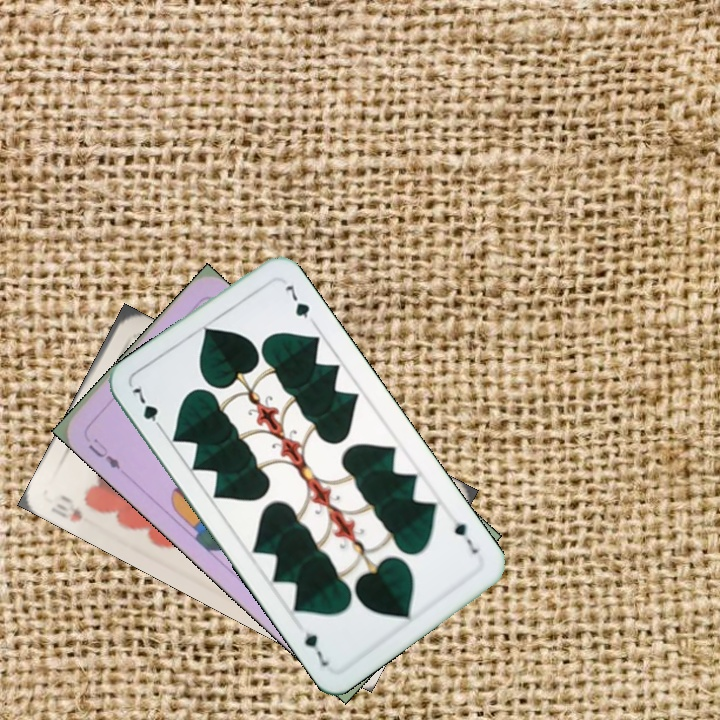EU: (84, 434, 124, 473)
G7: (128, 381, 167, 435), (445, 511, 481, 557)
H10: (47, 490, 85, 525)
